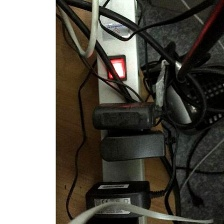three_eye_plug: (91, 0, 148, 224)
